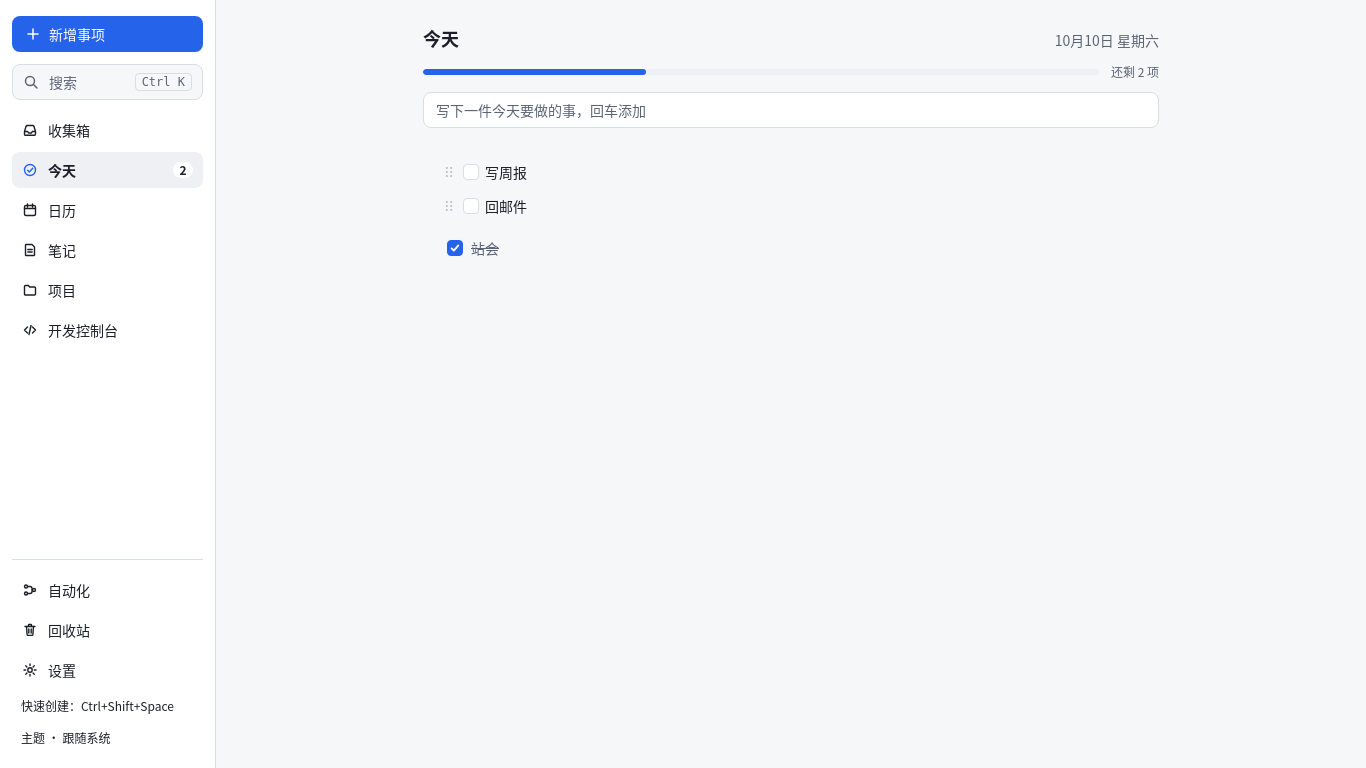
Test: MainShell › 输入框识别日期短语：提示识别结果，回车排到那一天并告诉用户去了哪里；退格可以取消识别
Expected: the button "写周报" is shown, [485, 162, 1113, 182]
In the field with placeholder "写下一件今天要做的事，回车添加": (791, 110) [423, 92, 1159, 128], type "买牛奶 明天"
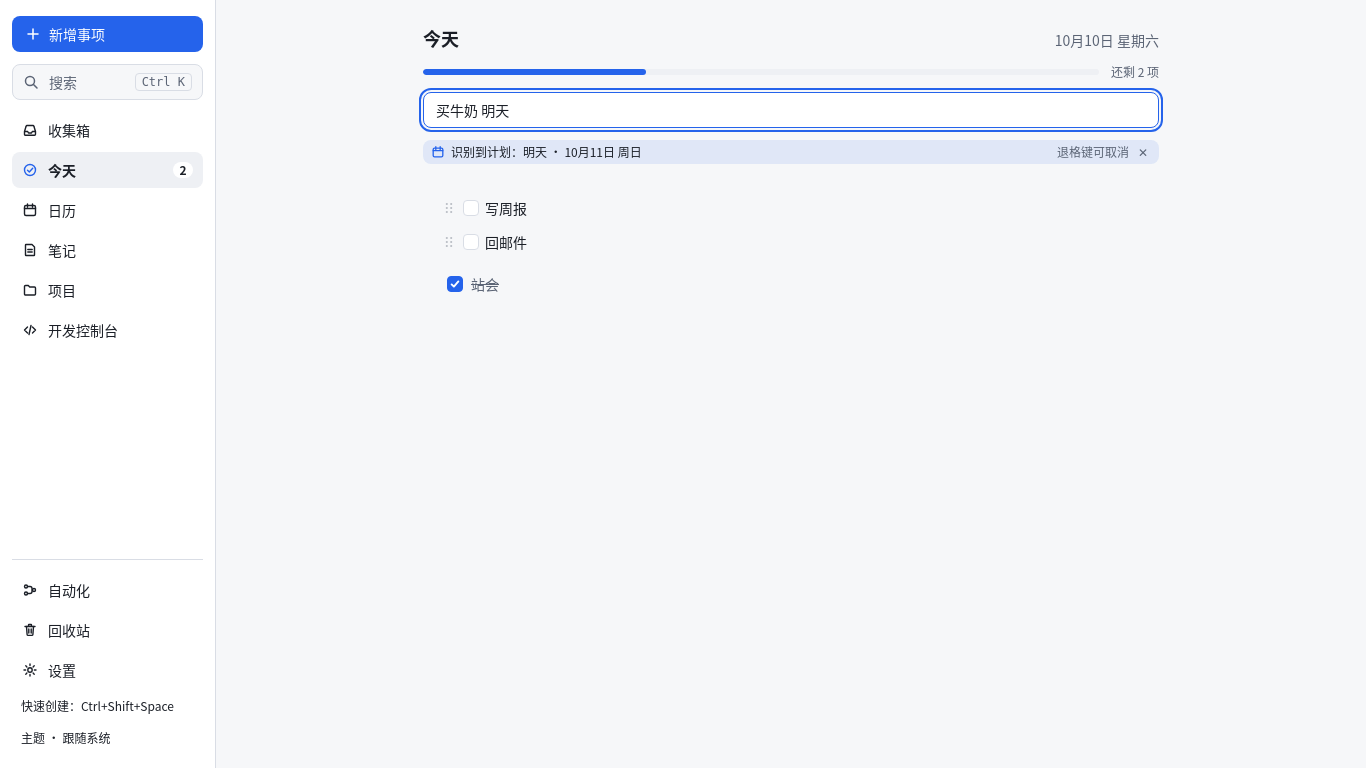
Expected: the text "识别到计划：明天 · 10月11日 周日" is shown, [451, 143, 642, 160]
Press Enter
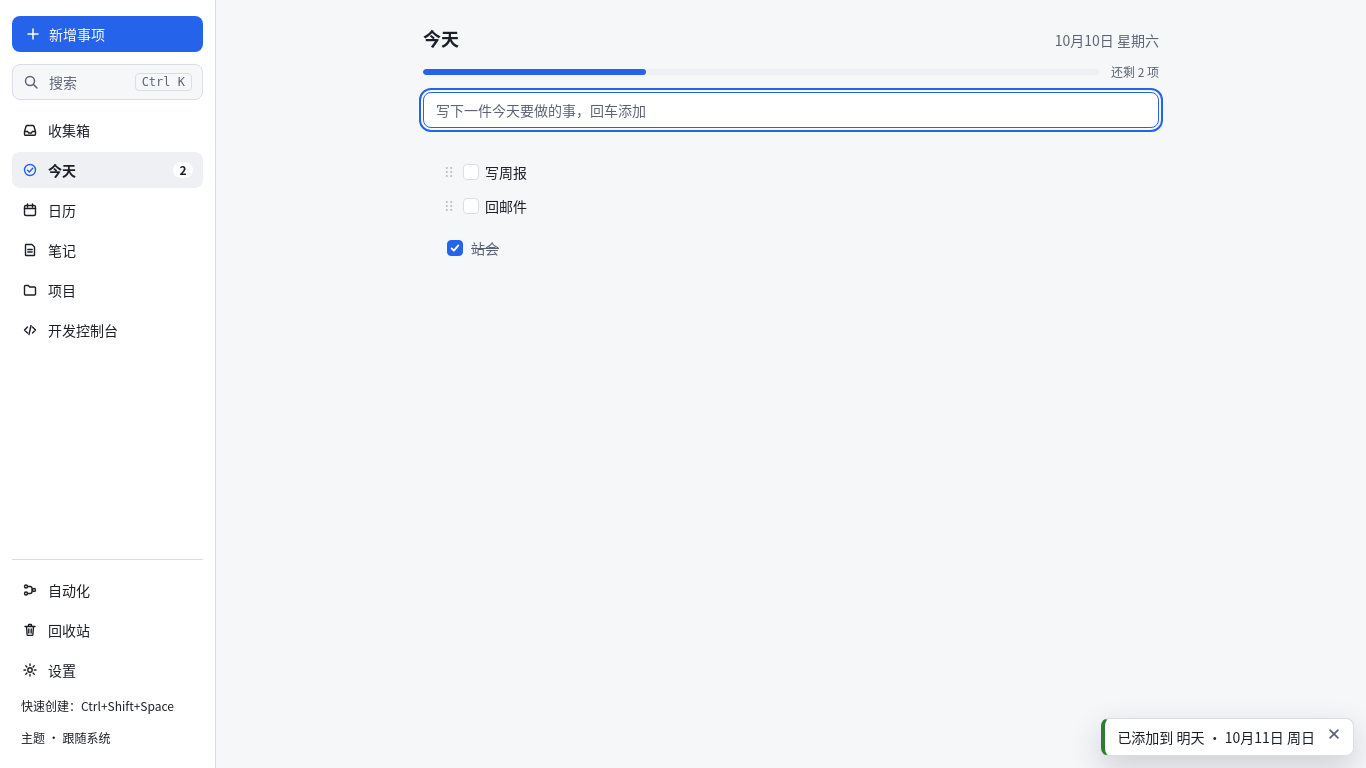
Expected: the text "已添加到 明天 · 10月11日 周日" is shown, [1117, 727, 1315, 747]
退格先取消识别：标题原样保留，按今天创建。
In the field with placeholder "写下一件今天要做的事，回车添加": (791, 110) [423, 92, 1159, 128], type "交房租 明天"
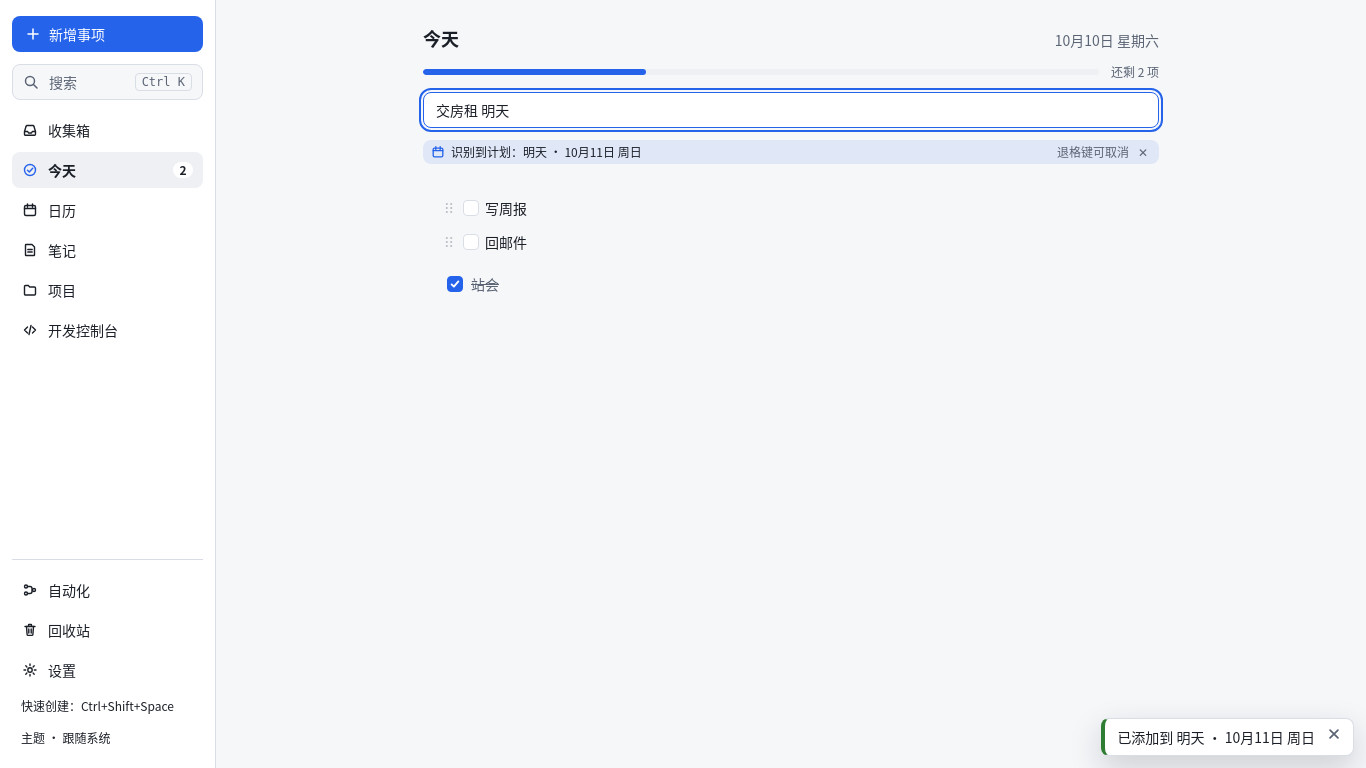
Expected: the text "识别到计划：明天 · 10月11日 周日" is shown, [451, 143, 642, 160]
Press Backspace
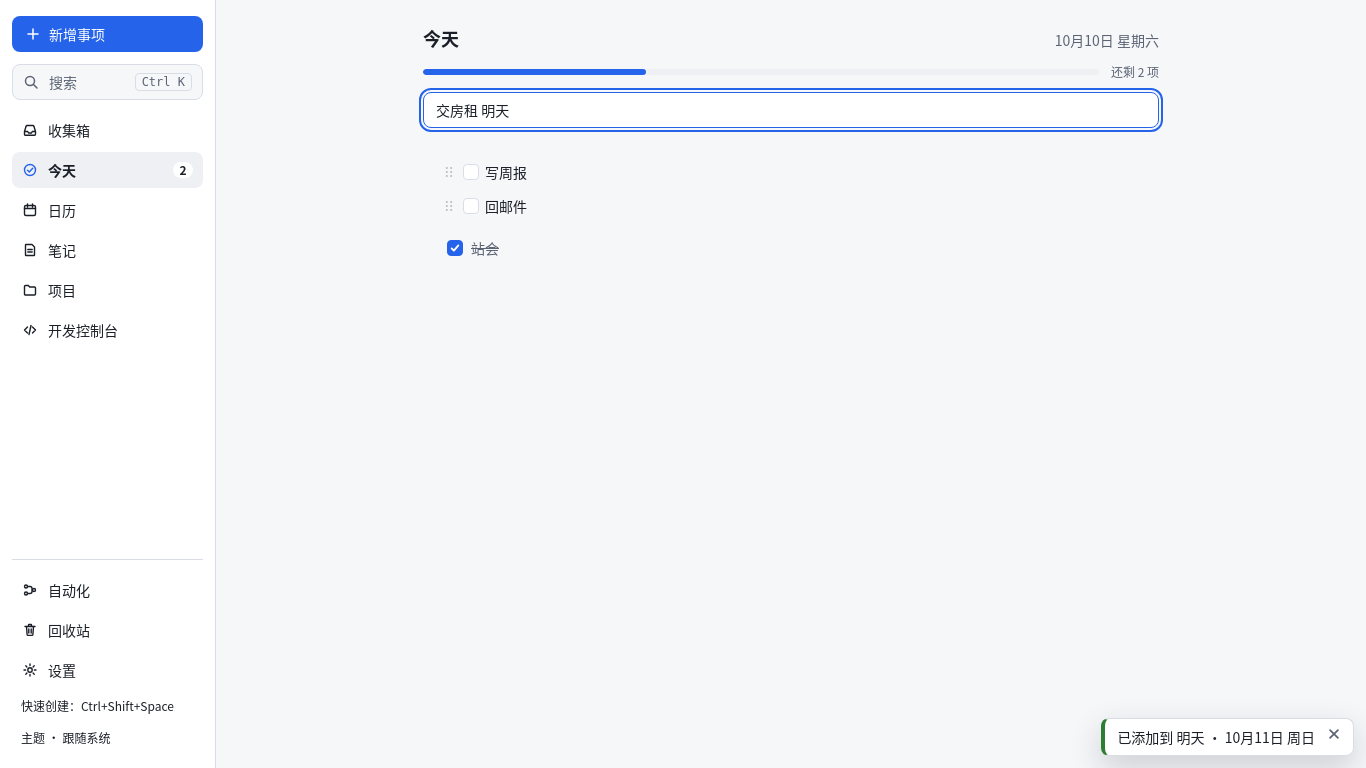
Expected: the text "识别到计划" is gone
